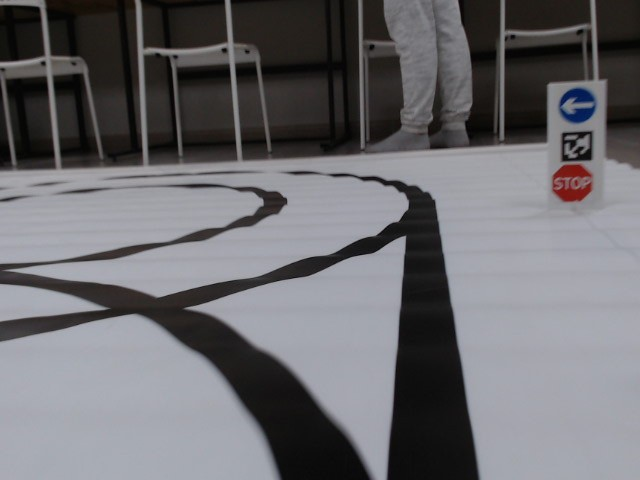Stop: (551, 162, 591, 204)
